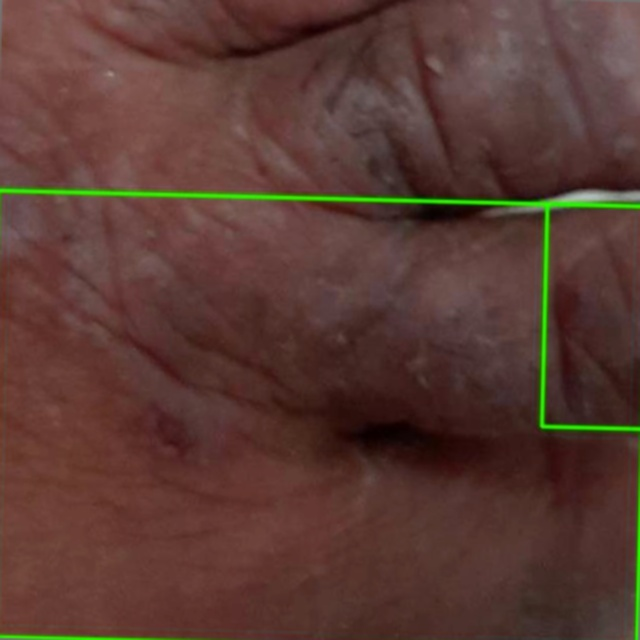Eczema: (0, 190, 639, 639), (542, 203, 639, 428)
